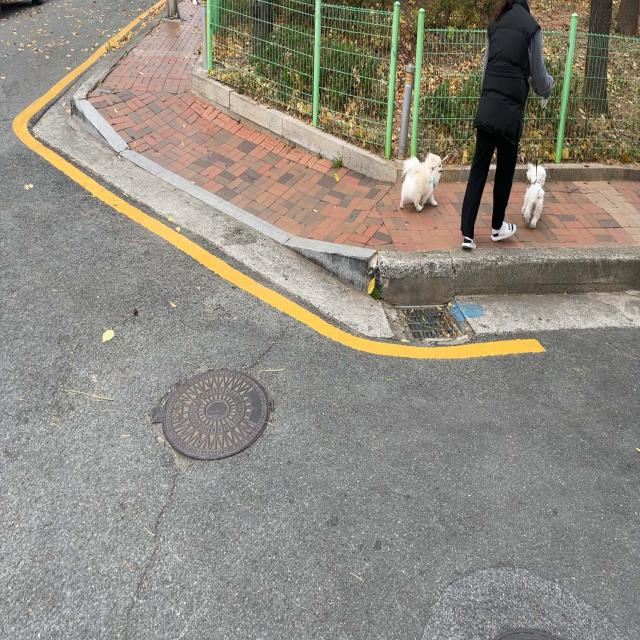Leashed_Dog: (400, 106, 494, 212), (491, 78, 550, 230)
